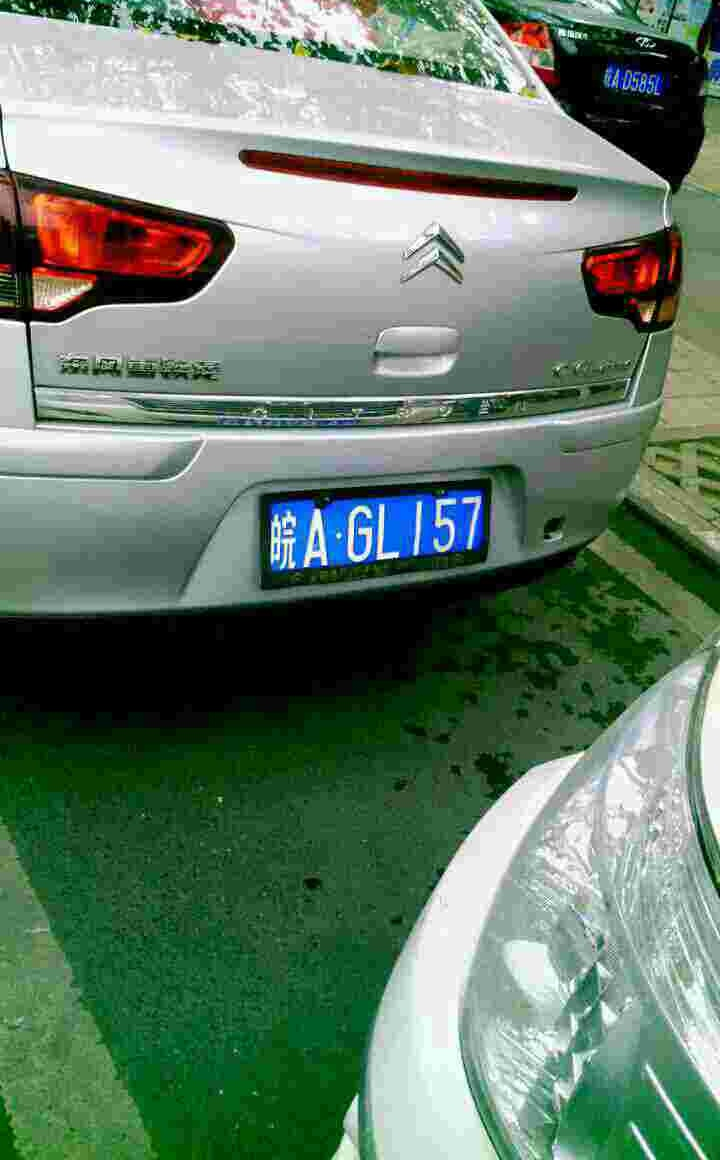license_plate: (271, 484, 497, 579)
